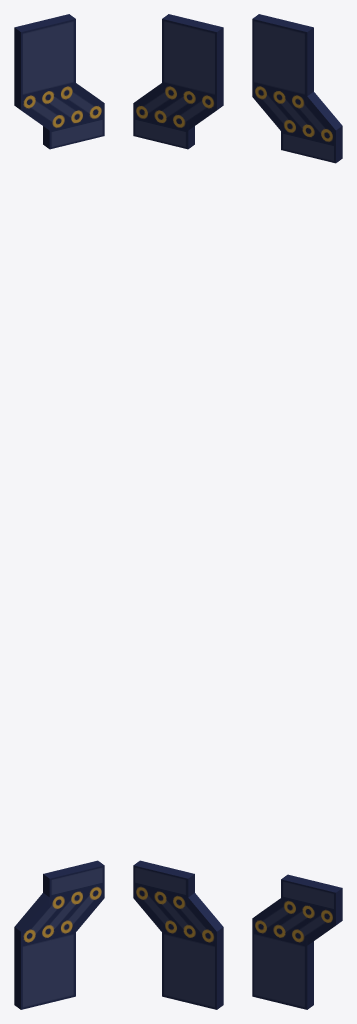
The model's file is HLR_EXT.obj.
3 renders of one model, left to right at view 1: azimuth 30°, elevation 25°; view 2: azimuth 150°, elevation 25°; view 3: azimuth 330°, elevation 25°, orthographic.
Visible parts, largest first — view 1: Ext001; view 2: Ext001; view 3: Ext001.
Part boxes in pixels (<box>): Ext001: <box>14,14,104,1009</box>; Ext001: <box>133,14,223,1009</box>; Ext001: <box>252,14,342,1009</box>.
Size of the model in its own units: 0.0117 by 0.1303 by 0.0016.
Materials: 1 (1 with a texture image).
